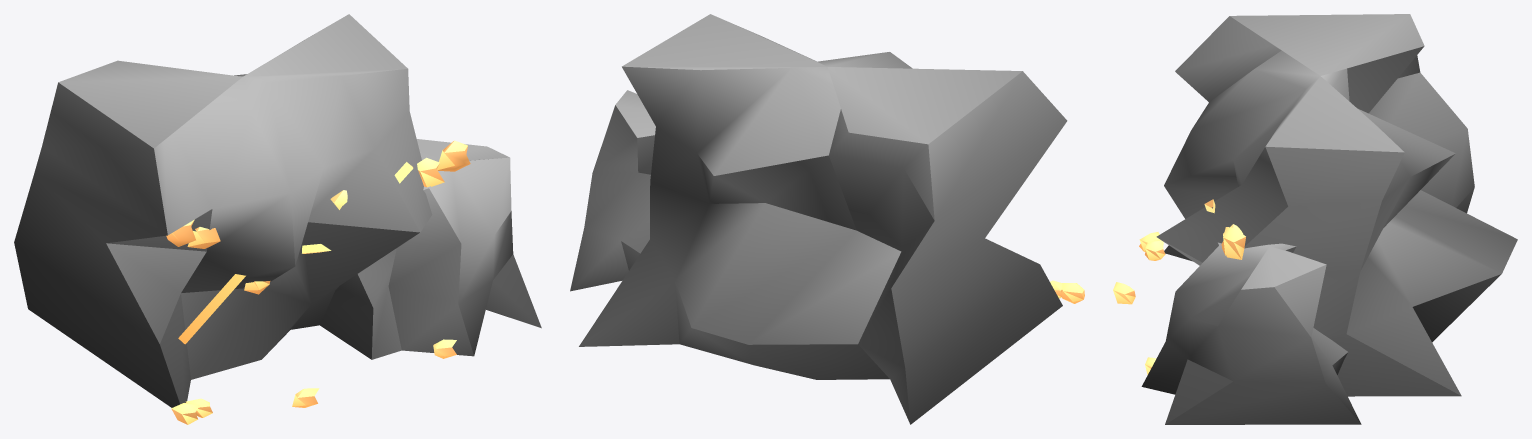
File: ore_vein.glb
3 views of the same model, side by side, from view 1: azimuth 30°, elevation 25°; view 2: azimuth 150°, elevation 25°; view 3: azimuth 270°, elevation 25° (orthographic). The views are drawn at different scales.
Visible parts, largest first — view 1: ore_vein, ore_vein_glow; view 2: ore_vein, ore_vein_glow; view 3: ore_vein, ore_vein_glow.
Boxes of the visible parts, box(x1,y1,x2,y2) form: ore_vein: box(14, 14, 541, 407); ore_vein_glow: box(166, 140, 470, 424); ore_vein: box(570, 14, 1067, 424); ore_vein_glow: box(1050, 280, 1084, 303); ore_vein: box(1141, 14, 1517, 424); ore_vein_glow: box(1113, 199, 1245, 374).
Size of the model in its own units: 1.02 by 0.6374 by 0.954.
